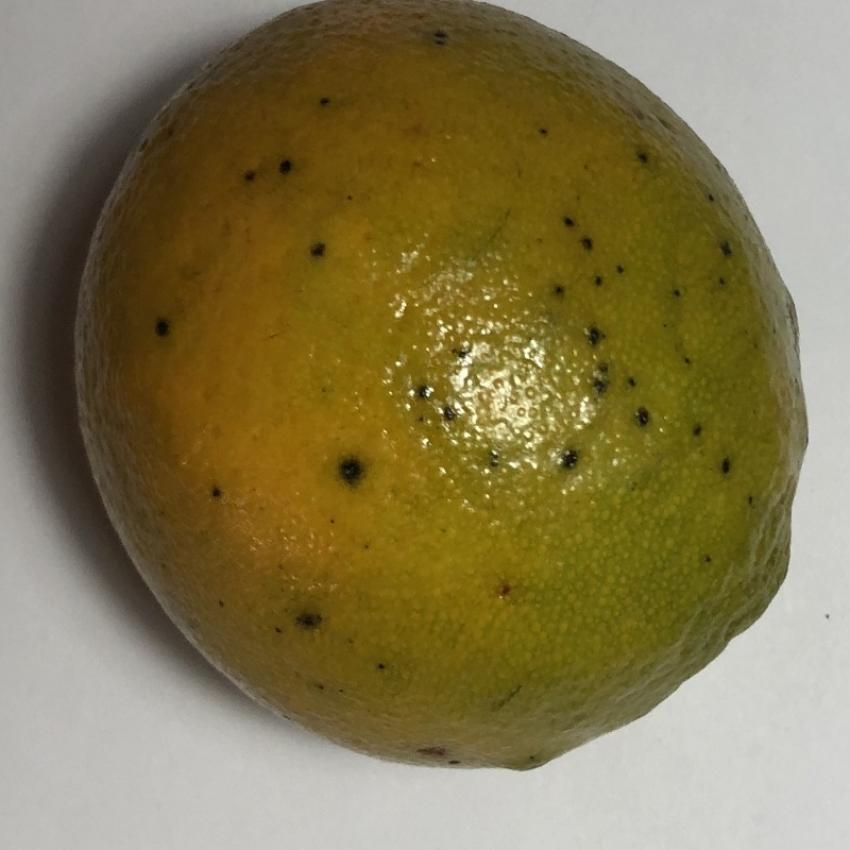Mal estado: (63, 0, 817, 785)
